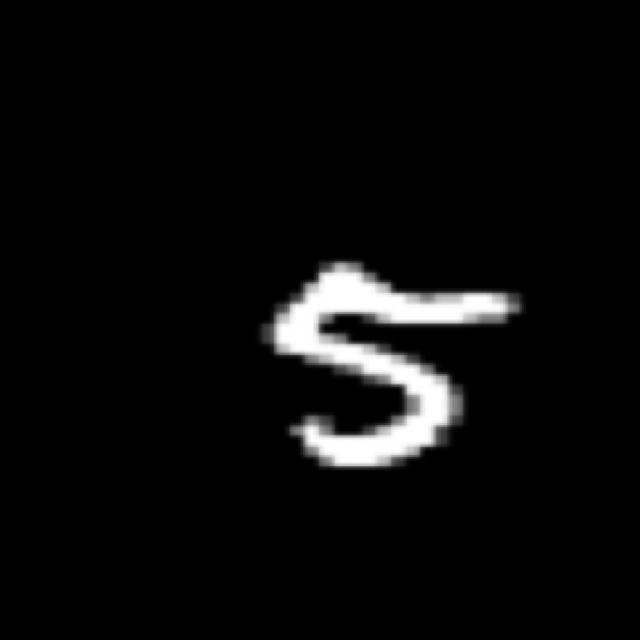five -5-: (258, 257, 524, 478)
